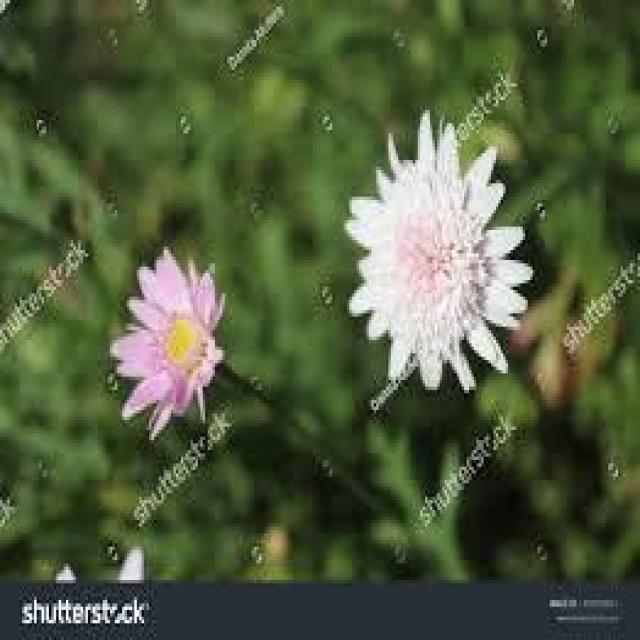organic waste: (347, 109, 537, 398), (105, 248, 225, 428)
